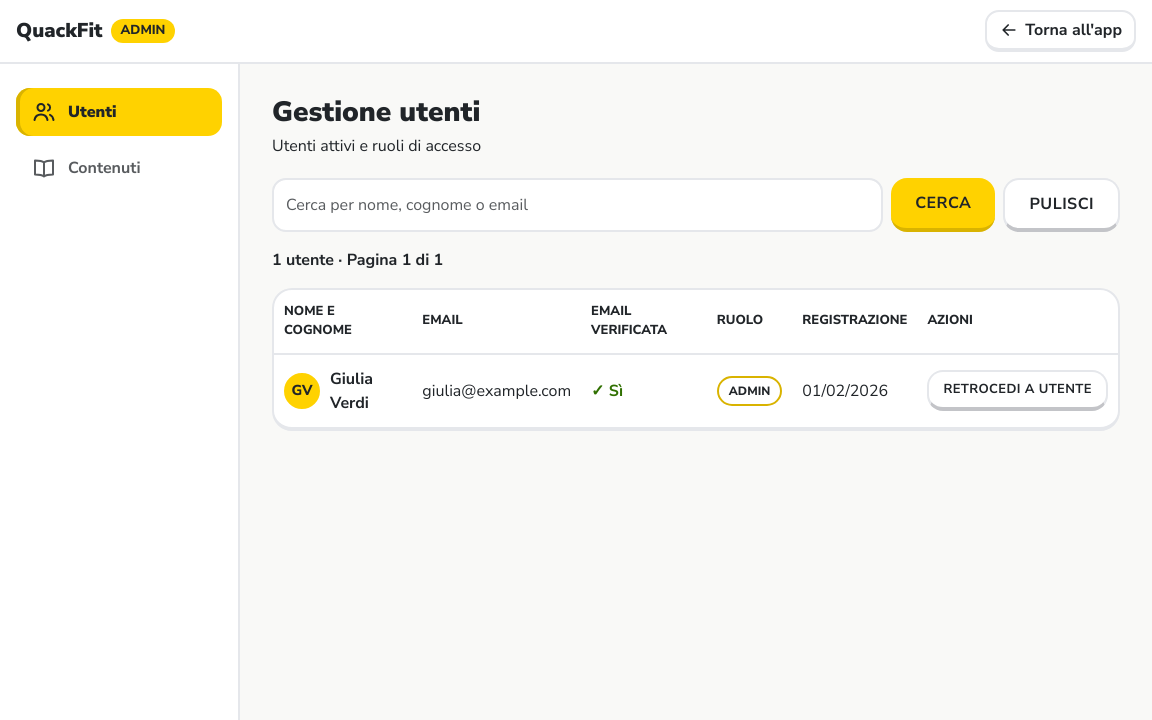
Test case: gestione utenti › Conferma chiama il backend una volta sola, anche con il doppio click, e ricarica la lista
Click the button "Retrocedi a UTENTE".
click(1018, 391)  # box [927,370,1108,411]
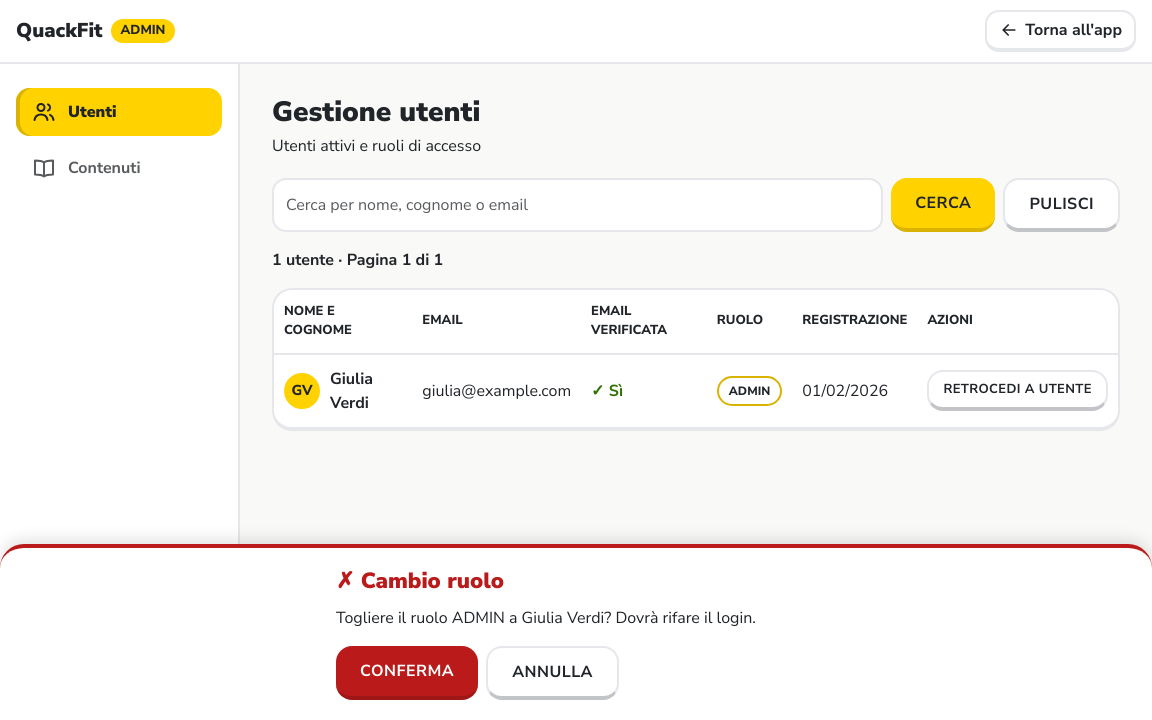
Check: the text "Togliere il ruolo ADMIN a Giulia Verdi? Dovrà rifare il login." is shown, box [336,606,816,630]
Double-click the button "Conferma".
double_click(407, 673)  # box [336,646,478,700]
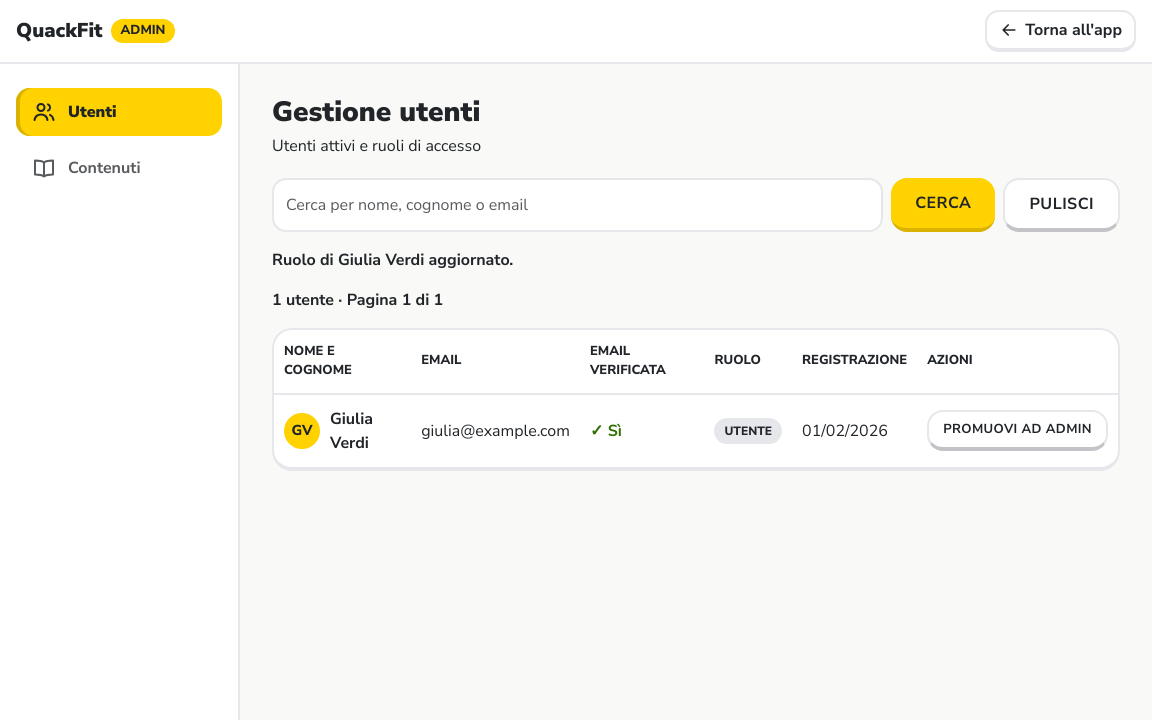
Check: the message reads "Ruolo di Giulia Verdi aggiornato.", box [272,249,513,271]
Check: the button "Promuovi ad ADMIN" is shown, box [927,410,1108,451]
